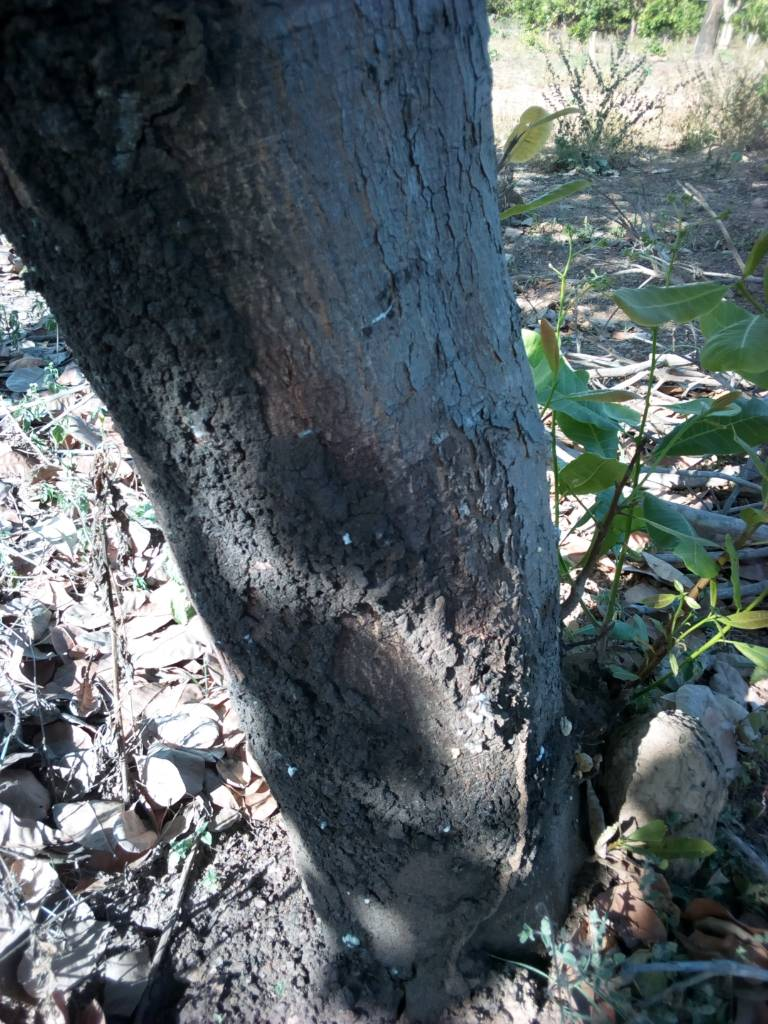Termites: (205, 497, 541, 883), (47, 164, 297, 480)
